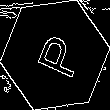P_NW: (27, 28, 83, 82)
